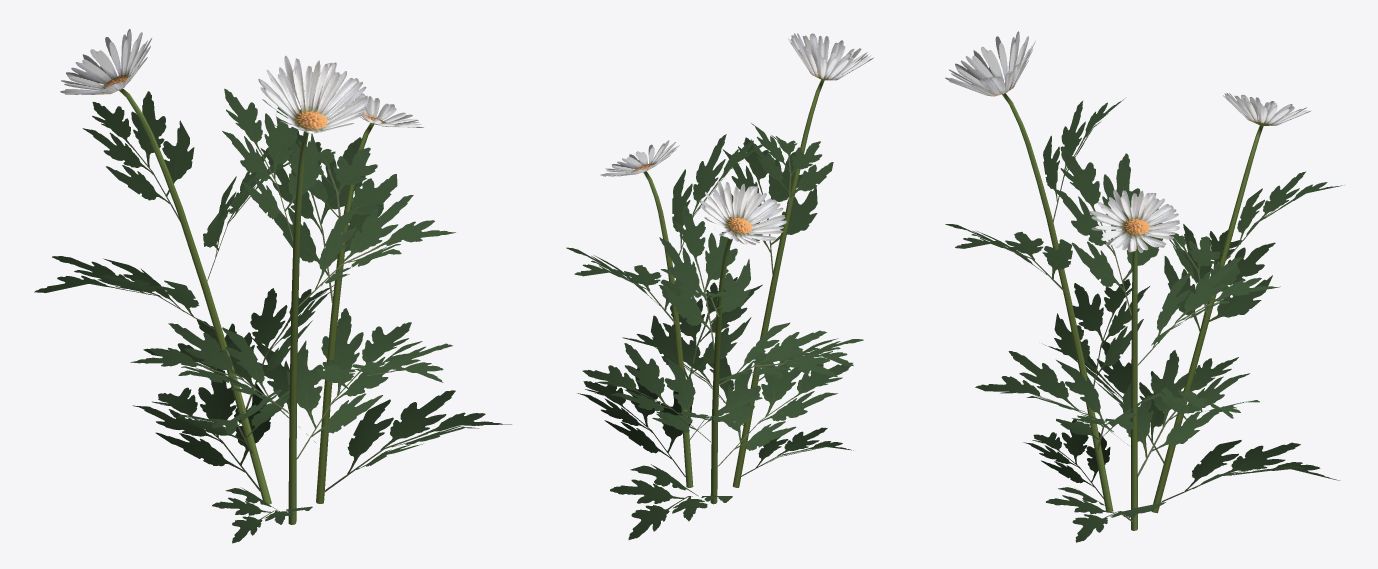
3 views of the same model, side by side, from view 1: azimuth 30°, elevation 25°; view 2: azimuth 150°, elevation 25°; view 3: azimuth 270°, elevation 25° (orthographic). The views are drawn at different scales.
Visible parts, largest first — view 1: Tree_1, Tree_0, Tree_2; view 2: Tree_1, Tree_0, Tree_2; view 3: Tree_1, Tree_0, Tree_2.
Part boxes in pixels (box(x1,y1,x2,y2)): Tree_1: box(34, 88, 511, 543); Tree_0: box(60, 29, 423, 133); Tree_2: box(102, 84, 386, 524); Tree_1: box(566, 123, 863, 539); Tree_0: box(600, 33, 874, 244); Tree_2: box(635, 77, 836, 504); Tree_1: box(945, 99, 1344, 542); Tree_0: box(945, 31, 1310, 252); Tree_2: box(1002, 93, 1276, 530).
Bounding box in the file's own units: 1.28 × 1.48 × 1.27.
Materials: 3 (3 with a texture image).
